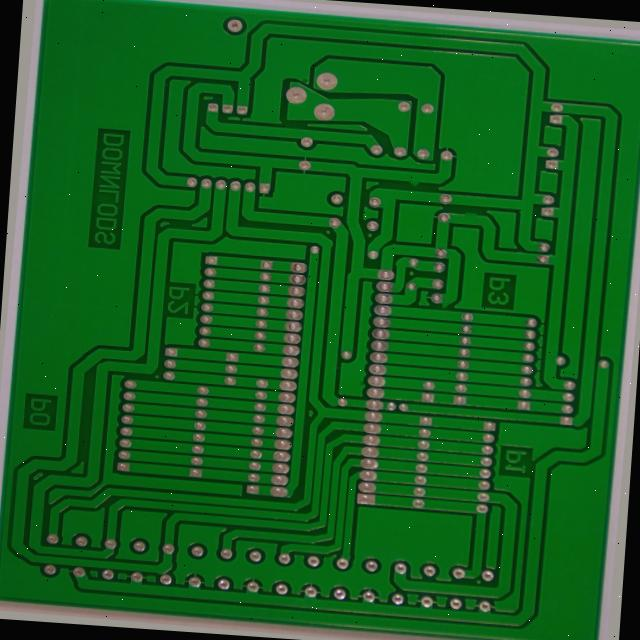spur: (402, 171, 423, 186), (459, 205, 483, 218), (439, 297, 455, 308)
